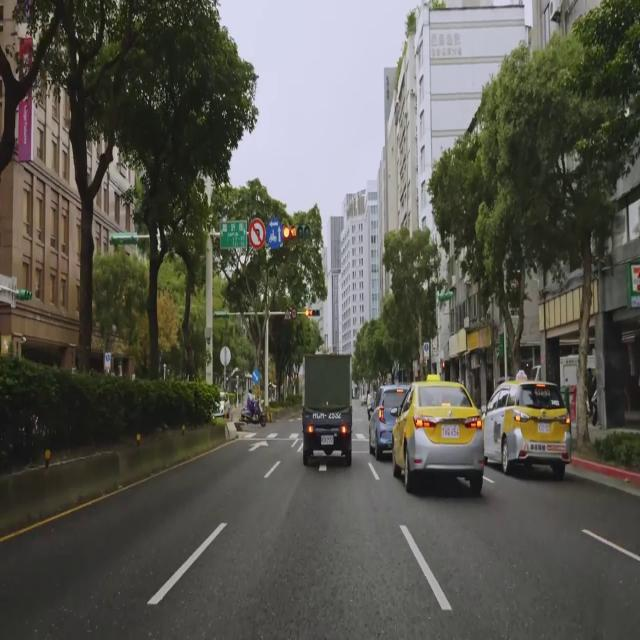red light: (282, 224, 311, 242), (304, 308, 320, 317)
